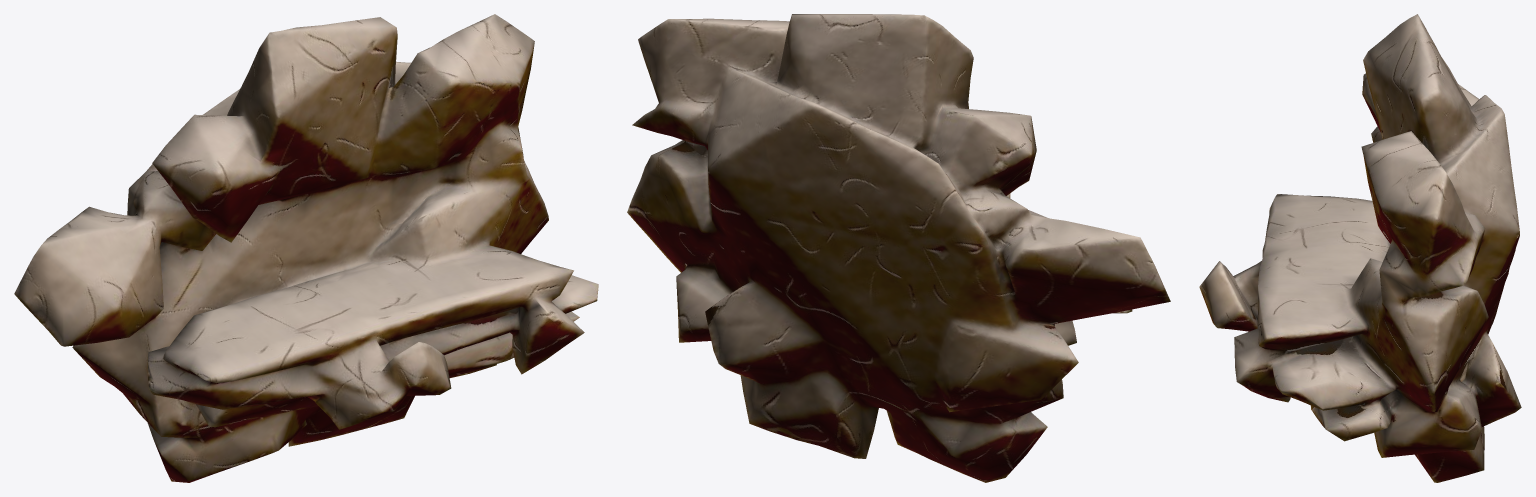
Rendered from shelf_a.glb.
3 renders of one model, left to right at view 1: azimuth 30°, elevation 25°; view 2: azimuth 150°, elevation 25°; view 3: azimuth 270°, elevation 25°, orthographic. The views are drawn at different scales.
Parts seen in each view (by area): view 1: rock; view 2: rock; view 3: rock.
Boxes of the visible parts, x1,y1,x2,y2 form: rock: (14,14,598,482); rock: (627,14,1170,482); rock: (1199,14,1521,482).
Bounding box in the file's own units: 1.08 × 0.8541 × 0.6004.
Materials: 1 (1 with a texture image).
